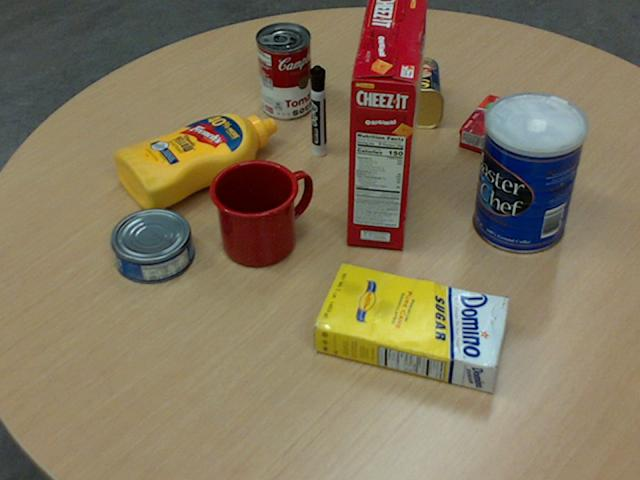cracker_box: (344, 0, 427, 248)
gelatin_box: (458, 92, 542, 161)
large_marker: (309, 64, 325, 156)
master_chef_can: (472, 92, 586, 254)
mug: (208, 158, 310, 266)
mustard_bottle: (113, 112, 276, 209)
potted_meat_can: (362, 57, 444, 128)
sugar_box: (311, 263, 510, 393)
tomato_soup_can: (256, 20, 312, 117)
tuna_fish_can: (109, 206, 193, 282)
